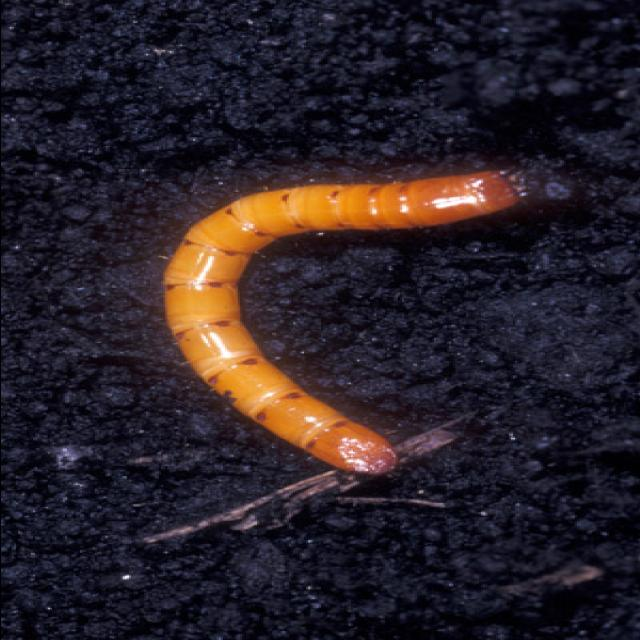wireworm: (143, 164, 531, 482)
